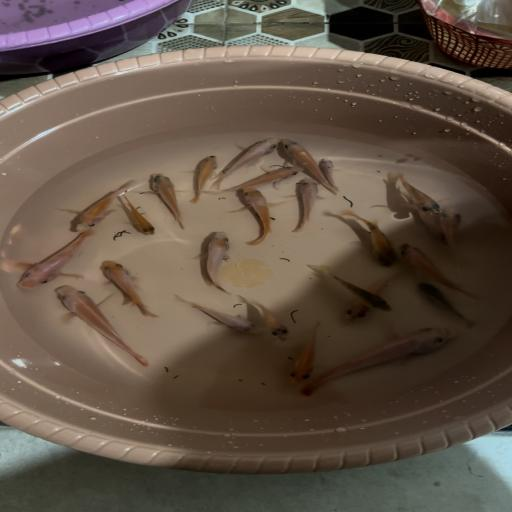nila: (316, 322, 454, 396), (48, 281, 152, 368), (398, 242, 490, 304), (7, 232, 100, 291), (95, 256, 168, 318), (168, 291, 260, 337), (64, 178, 140, 233), (309, 267, 394, 316), (332, 208, 400, 266), (341, 268, 407, 326), (213, 132, 283, 185), (412, 282, 484, 327), (194, 228, 243, 293), (281, 322, 332, 382), (234, 185, 284, 244), (146, 172, 194, 230), (243, 287, 295, 340), (212, 165, 302, 195), (279, 135, 327, 190), (288, 178, 328, 234), (386, 174, 443, 212), (182, 151, 222, 205), (440, 206, 474, 263), (120, 196, 166, 238), (402, 209, 450, 249), (314, 157, 354, 192)
